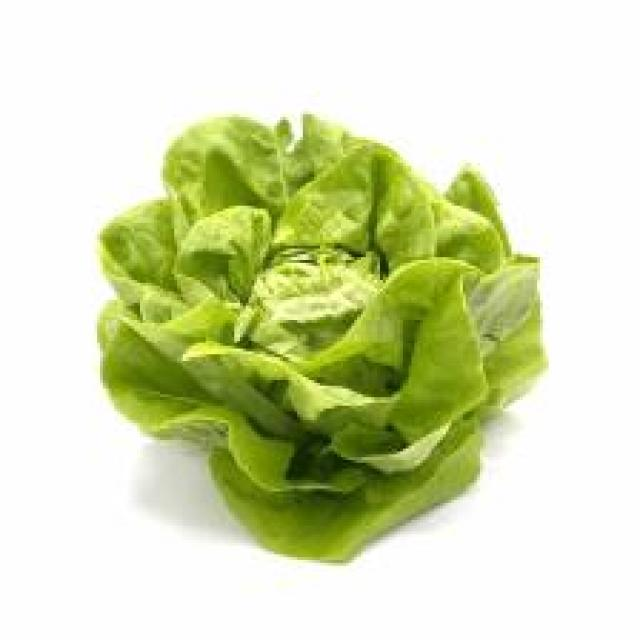Lettuce: (93, 102, 553, 562)
